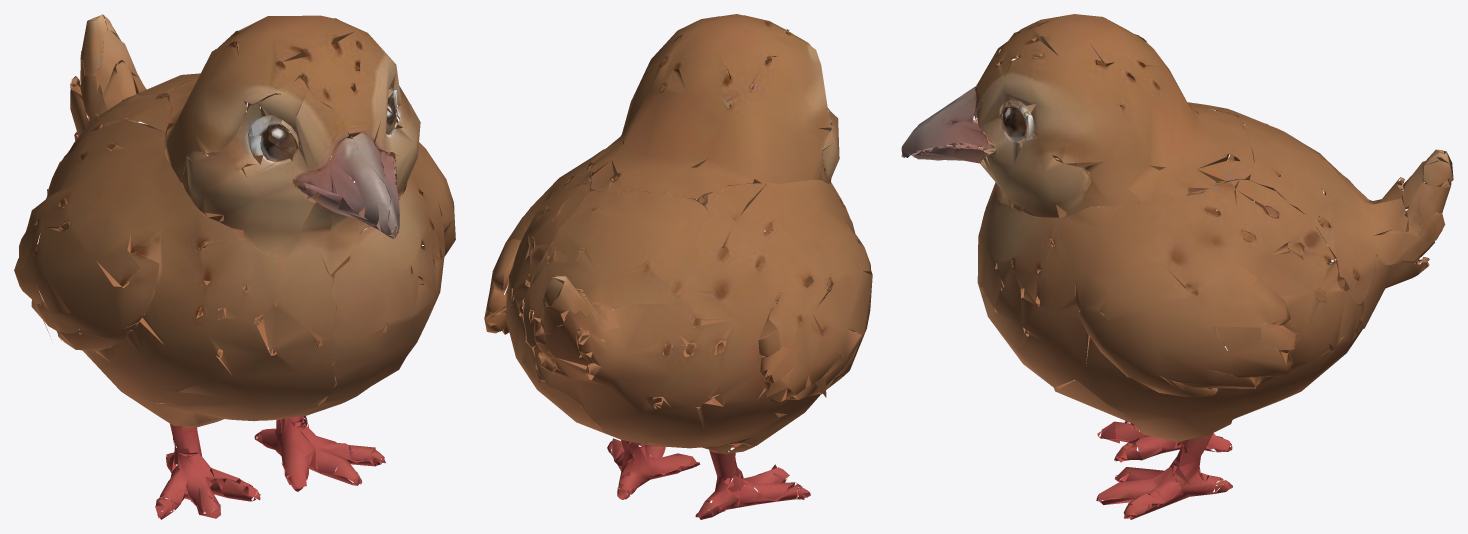
The model's file is weka.glb.
3 views of the same model, side by side, from view 1: azimuth 30°, elevation 25°; view 2: azimuth 150°, elevation 25°; view 3: azimuth 270°, elevation 25° (orthographic). The views are drawn at different scales.
Parts seen in each view (by area): view 1: model; view 2: model; view 3: model.
Boxes of the visible parts, x1=… form: model: x1=14, y1=14, x2=455, y2=519; model: x1=484, y1=14, x2=872, y2=519; model: x1=901, y1=14, x2=1453, y2=519.
Bounding box in the file's own units: 1.37 × 1.69 × 1.9.
Materials: 1 (1 with a texture image).
